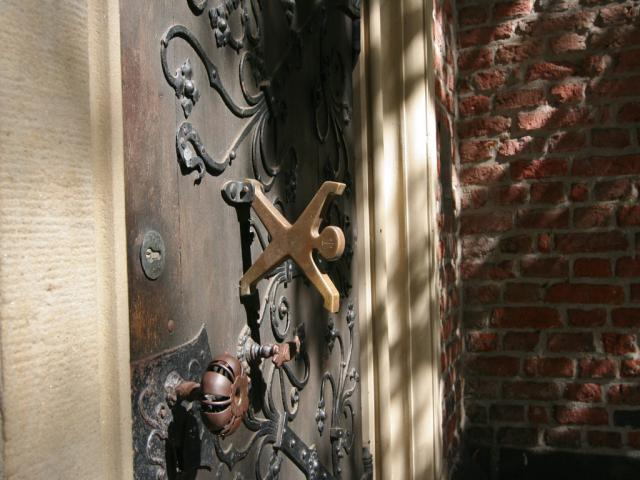Door-handle: (176, 354, 251, 438), (237, 334, 302, 371)
